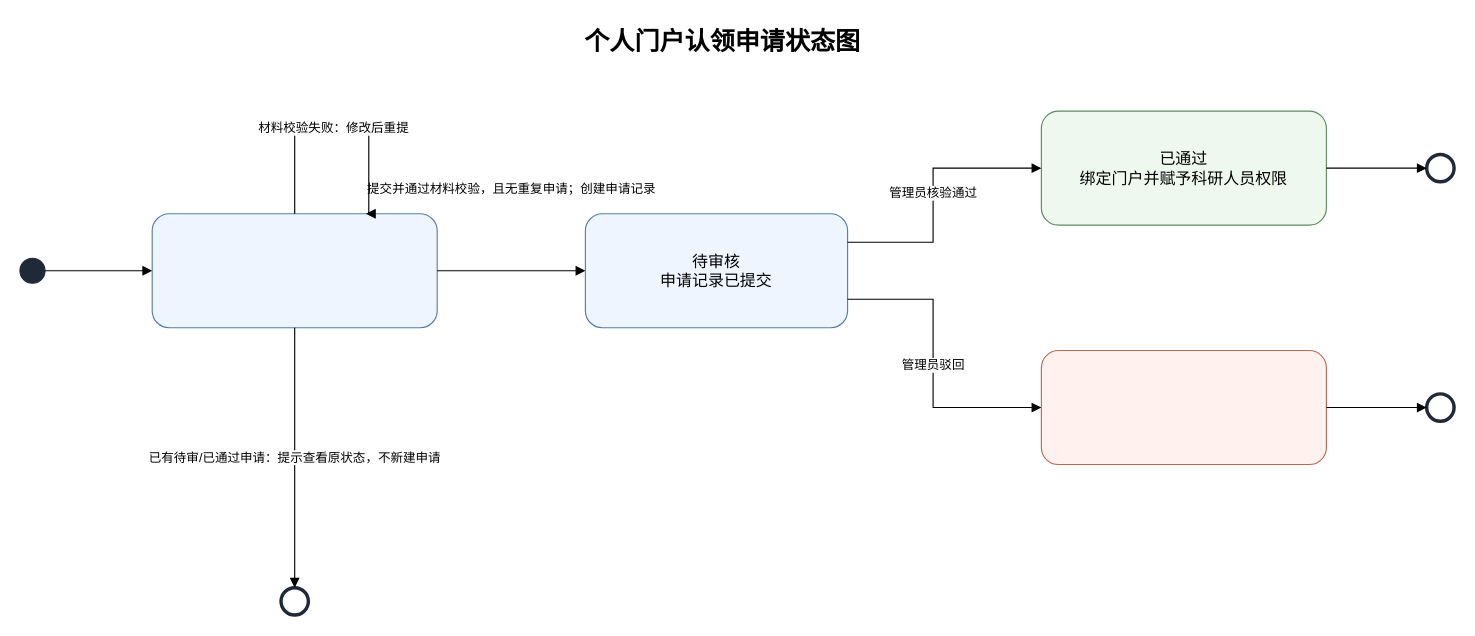
This 1475x636 diagram has some shape labels left out. Each missing label, with the box of its shape:
填写中（未提交） 选择门户并填写身份、机构及证明材料: (151, 213, 437, 328)
已驳回 记录驳回理由并通知申请人: (1040, 349, 1326, 465)
